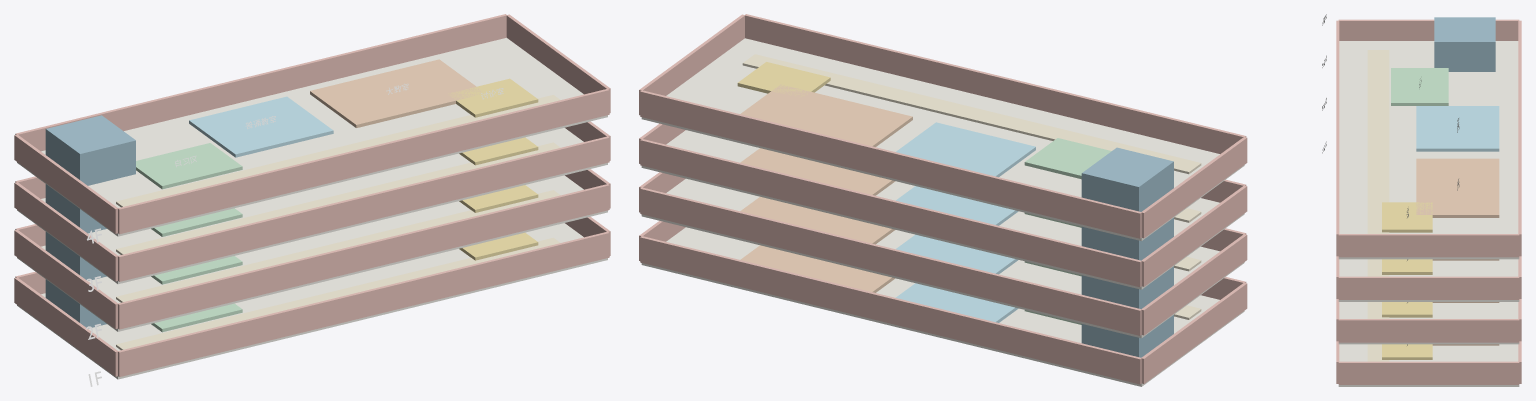
Rendered from teaching_1_floors.glb.
3 renders of one model, left to right at view 1: azimuth 30°, elevation 25°; view 2: azimuth 150°, elevation 25°; view 3: azimuth 270°, elevation 25°, orthographic. The views are drawn at different scales.
Parts seen in each view (by area): view 1: teaching_1_floor_4_slab, teaching_1_floor_2_left_wall, teaching_1_floor_3_left_wall, teaching_1_floor_4_left_wall, teaching_1_floor_1_left_wall, teaching_1_floor_4_right_wall, teaching_1_floor_4_lecture, teaching_1_floor_2_slab, teaching_1_floor_1_slab, teaching_1_floor_3_slab, teaching_1_floor_4_class_a, teaching_1_floor_4_stair_core (+23 smaller); view 2: teaching_1_floor_4_slab, teaching_1_floor_1_right_wall, teaching_1_floor_2_right_wall, teaching_1_floor_3_right_wall, teaching_1_floor_4_right_wall, teaching_1_floor_4_left_wall, teaching_1_floor_4_lecture, teaching_1_floor_3_slab, teaching_1_floor_1_slab, teaching_1_floor_2_slab, teaching_1_floor_4_corridor, teaching_1_floor_4_stair_core (+20 smaller); view 3: teaching_1_floor_4_slab, teaching_1_floor_4_lecture, teaching_1_floor_2_back_wall, teaching_1_floor_1_back_wall, teaching_1_floor_4_back_wall, teaching_1_floor_3_back_wall, teaching_1_floor_4_corridor, teaching_1_floor_4_class_a, teaching_1_floor_4_stair_core, teaching_1_floor_4_front_wall, teaching_1_floor_2_slab, teaching_1_floor_1_slab (+11 smaller).
Part boxes in pixels (x1,y1,x2,y2): teaching_1_floor_4_slab: (17, 37, 607, 236); teaching_1_floor_2_left_wall: (118, 184, 609, 329); teaching_1_floor_3_left_wall: (118, 136, 609, 281); teaching_1_floor_4_left_wall: (118, 89, 609, 234); teaching_1_floor_1_left_wall: (118, 232, 609, 376); teaching_1_floor_4_right_wall: (15, 14, 506, 151); teaching_1_floor_4_lecture: (310, 59, 480, 127); teaching_1_floor_2_slab: (17, 175, 607, 331); teaching_1_floor_1_slab: (17, 223, 607, 379); teaching_1_floor_3_slab: (17, 128, 607, 284); teaching_1_floor_4_class_a: (189, 96, 333, 157); teaching_1_floor_4_stair_core: (45, 115, 135, 185); teaching_1_floor_4_slab: (641, 38, 1244, 240); teaching_1_floor_1_right_wall: (640, 236, 1141, 384); teaching_1_floor_2_right_wall: (640, 187, 1141, 335); teaching_1_floor_3_right_wall: (640, 139, 1141, 287); teaching_1_floor_4_right_wall: (640, 90, 1141, 238); teaching_1_floor_4_left_wall: (745, 14, 1246, 153); teaching_1_floor_4_lecture: (740, 84, 912, 146); teaching_1_floor_3_slab: (641, 130, 1244, 289); teaching_1_floor_1_slab: (641, 227, 1244, 386); teaching_1_floor_2_slab: (641, 178, 1244, 338); teaching_1_floor_4_corridor: (742, 54, 1201, 174); teaching_1_floor_4_stair_core: (1081, 147, 1173, 211); teaching_1_floor_4_slab: (1338, 41, 1519, 259); teaching_1_floor_4_lecture: (1416, 158, 1499, 217); teaching_1_floor_2_back_wall: (1338, 319, 1519, 342); teaching_1_floor_1_back_wall: (1338, 361, 1519, 384); teaching_1_floor_4_back_wall: (1338, 234, 1519, 257); teaching_1_floor_3_back_wall: (1338, 276, 1519, 299); teaching_1_floor_4_corridor: (1367, 50, 1389, 233); teaching_1_floor_4_class_a: (1416, 106, 1499, 151); teaching_1_floor_4_stair_core: (1434, 17, 1495, 71); teaching_1_floor_4_front_wall: (1338, 19, 1519, 40); teaching_1_floor_2_slab: (1338, 302, 1519, 344); teaching_1_floor_1_slab: (1338, 344, 1519, 386).
Size of the model in its own units: 30.39 by 9.96 by 11.05.
